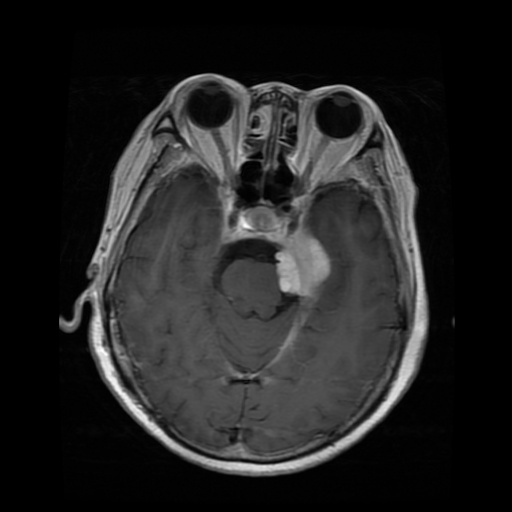meningioma: (275, 228, 328, 350)
